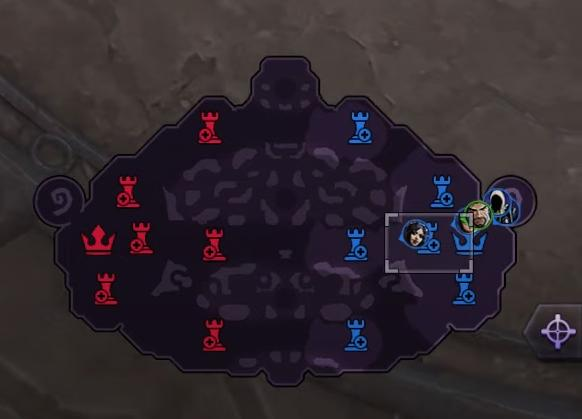blue nexus: (451, 225, 487, 256)
blue player: (400, 216, 435, 251), (494, 198, 524, 230), (483, 187, 513, 218)
blue tower: (343, 226, 369, 262), (347, 110, 373, 145), (415, 220, 441, 254), (429, 174, 454, 209), (344, 317, 369, 351), (452, 271, 477, 305)
red nexus: (80, 223, 116, 255)
red tower: (86, 267, 128, 309), (197, 313, 233, 355), (125, 217, 160, 257), (198, 223, 230, 266), (197, 110, 222, 144), (116, 173, 140, 208)
